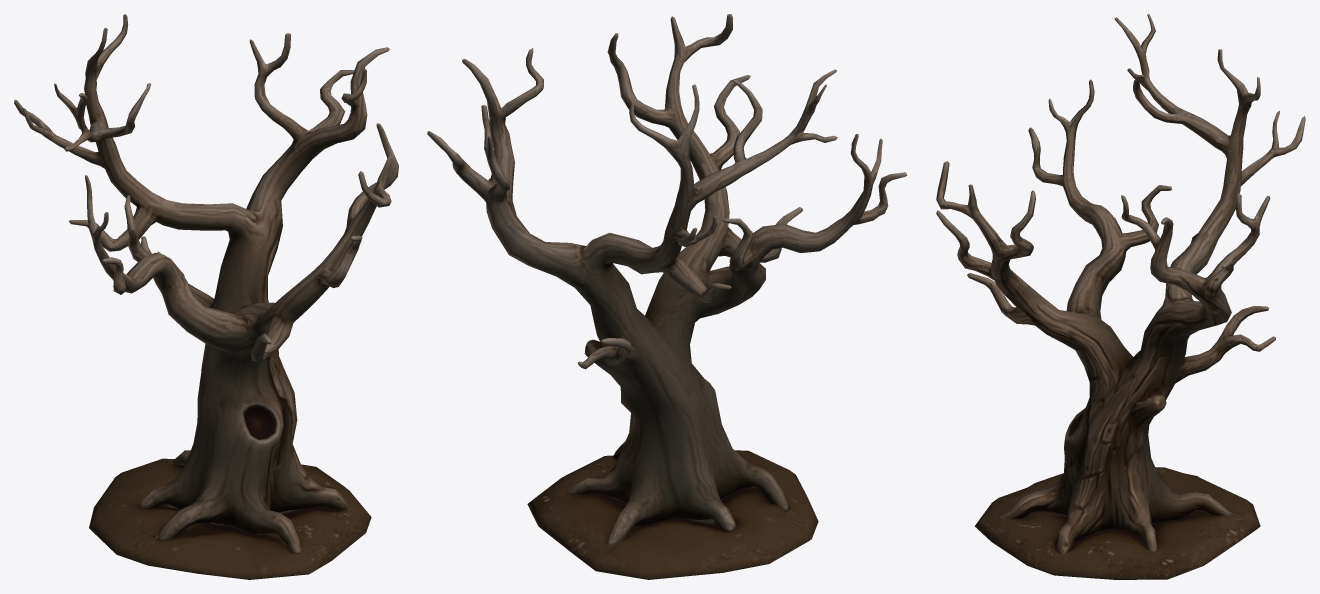
The model's file is tripo_convert_f5709c37-12bd-40b9-870d-54b9508a9759.fbx.
3 renders of one model, left to right at view 1: azimuth 30°, elevation 25°; view 2: azimuth 150°, elevation 25°; view 3: azimuth 270°, elevation 25°, orthographic. The views are drawn at different scales.
Parts seen in each view (by area): view 1: tripo_node_f5709c37; view 2: tripo_node_f5709c37; view 3: tripo_node_f5709c37.
Part boxes in pixels (left/top/right/bottom): tripo_node_f5709c37: left=14, top=14, right=398, bottom=579; tripo_node_f5709c37: left=427, top=14, right=907, bottom=579; tripo_node_f5709c37: left=936, top=14, right=1305, bottom=579.
Bounding box in the file's own units: 0.7988 × 0.998 × 0.752.
Materials: 1 (1 with a texture image).
